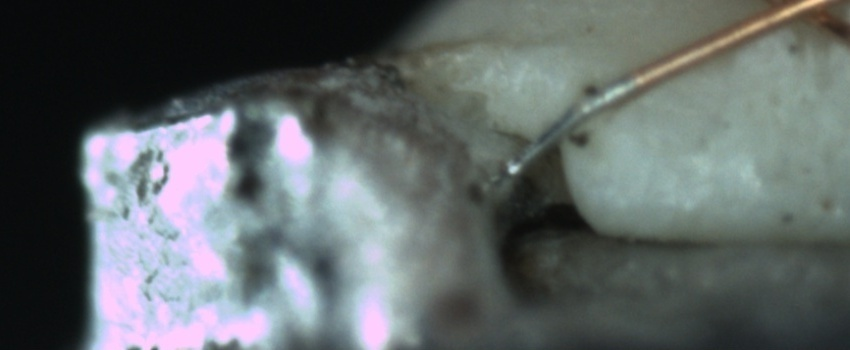CL: (739, 1, 849, 40)
TS: (515, 70, 639, 181)
TTCW: (505, 46, 683, 187)
